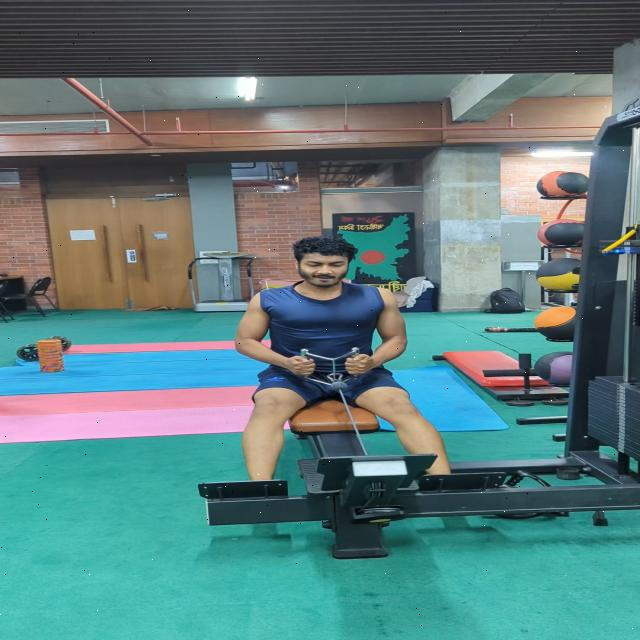Normal_RowingMachineExercise: (226, 234, 458, 490)
